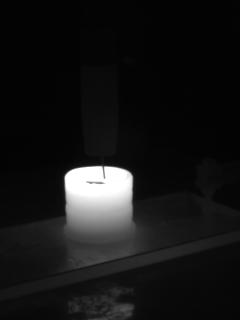tip_wire_left: (85, 152, 106, 182)
tip_wire_right: (103, 151, 117, 182)
